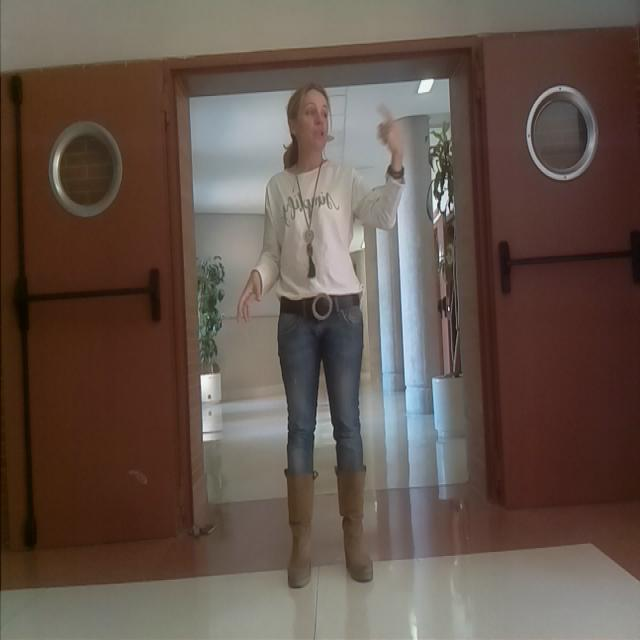person: (232, 79, 407, 586)
